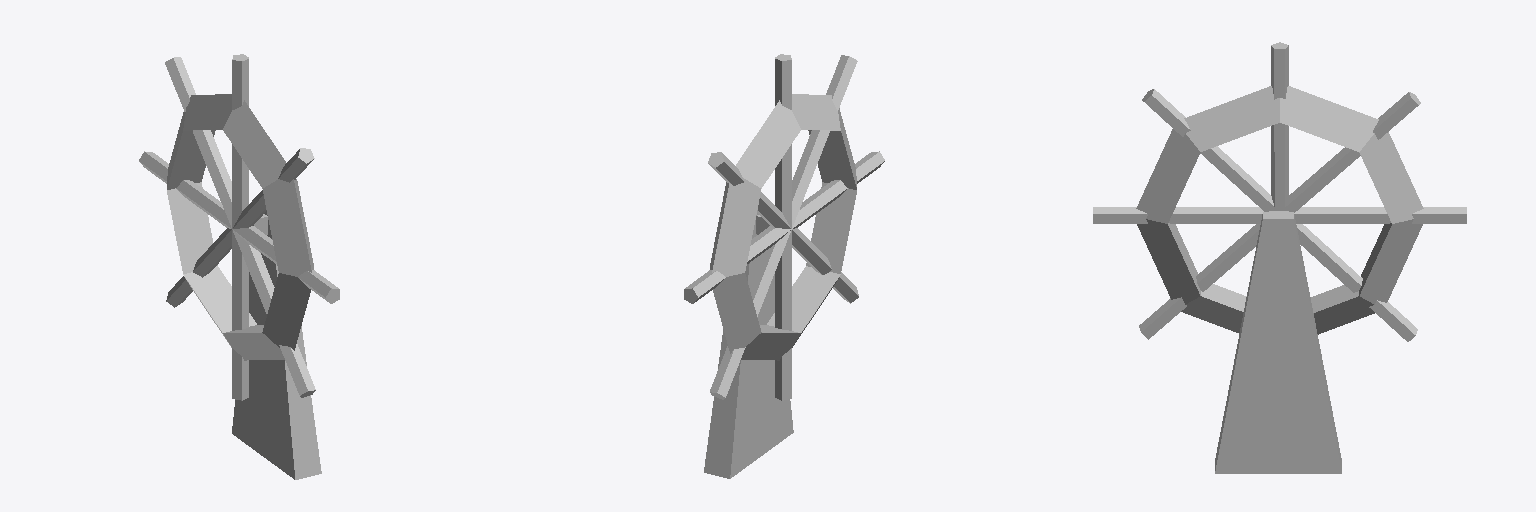
The model's file is wheel.obj.
3 renders of one model, left to right at view 1: azimuth 30°, elevation 25°; view 2: azimuth 150°, elevation 25°; view 3: azimuth 270°, elevation 25°, orthographic.
Visible parts, largest first — view 1: obj.wheel.000_Torus; view 2: obj.wheel.000_Torus; view 3: obj.wheel.000_Torus.
Boxes of the visible parts, x1,y1,x2,y2 form: obj.wheel.000_Torus: [139, 54, 339, 479]; obj.wheel.000_Torus: [684, 54, 884, 478]; obj.wheel.000_Torus: [1093, 42, 1466, 473].
Bounding box in the file's own units: 0.0796 × 0.4625 × 0.3881.